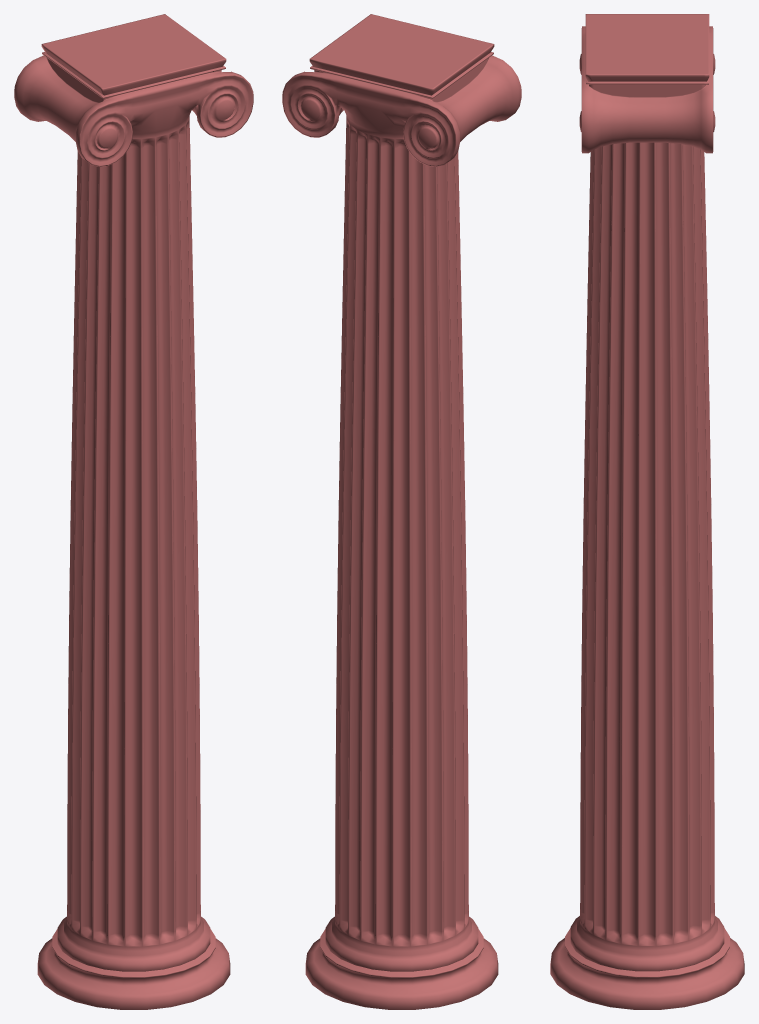
The model's file is ColumnLow.fbx.
The picture shows the model from 3 angles, left to right: view 1: azimuth 30°, elevation 25°; view 2: azimuth 150°, elevation 25°; view 3: azimuth 270°, elevation 25°; orthographic projection.
Parts seen in each view (by area): view 1: column_postUV:LowPoly1; view 2: column_postUV:LowPoly1; view 3: column_postUV:LowPoly1.
Part boxes in pixels (box(x1,y1,x2,y2)): column_postUV:LowPoly1: box(14, 14, 253, 1009); column_postUV:LowPoly1: box(282, 14, 521, 1009); column_postUV:LowPoly1: box(550, 14, 744, 1009).
Bounding box in the file's own units: 8.95 × 45.09 × 8.56.
